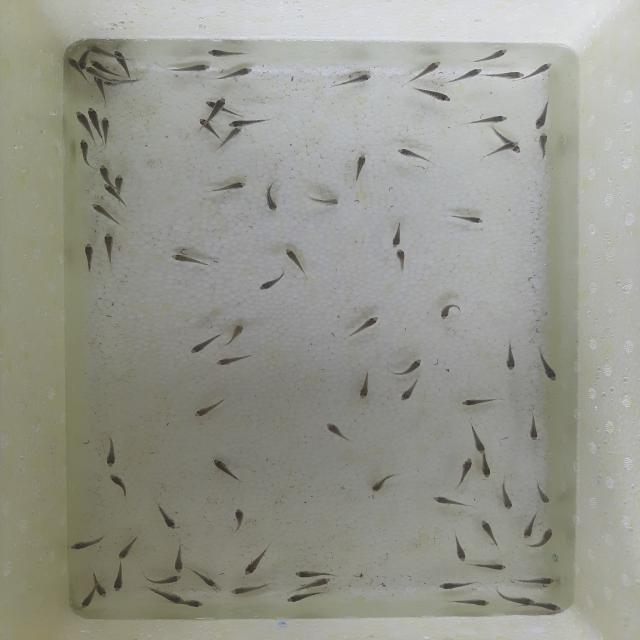fingerling: (343, 316, 382, 338), (396, 146, 436, 167), (282, 246, 309, 277), (243, 546, 270, 577), (168, 251, 211, 270), (205, 178, 249, 196), (465, 421, 489, 454), (540, 348, 561, 385), (450, 456, 474, 488), (335, 72, 373, 92), (152, 502, 180, 529), (66, 533, 108, 551), (214, 455, 243, 481), (166, 61, 216, 76), (524, 59, 554, 84), (432, 492, 476, 509), (347, 153, 369, 186), (194, 398, 230, 418), (192, 566, 220, 591), (412, 59, 442, 82), (411, 89, 454, 105), (224, 320, 248, 348), (369, 473, 399, 495), (390, 358, 426, 376), (447, 211, 484, 228), (263, 181, 282, 214), (530, 480, 554, 506), (187, 335, 219, 354), (209, 352, 252, 366), (524, 412, 544, 442), (103, 436, 121, 469), (324, 421, 352, 442), (228, 504, 249, 532), (220, 65, 254, 82), (451, 69, 485, 86), (116, 535, 140, 559), (514, 574, 562, 586), (90, 202, 118, 222), (398, 379, 423, 401), (530, 529, 555, 551), (470, 49, 509, 63), (465, 114, 510, 126), (147, 591, 183, 606), (500, 592, 533, 608), (305, 195, 345, 208), (435, 579, 478, 591), (112, 560, 128, 592), (259, 275, 289, 292), (222, 126, 245, 148), (113, 49, 133, 74), (501, 478, 516, 511), (110, 472, 129, 498), (479, 519, 498, 545), (77, 139, 94, 167), (452, 534, 467, 564), (462, 396, 499, 408), (521, 514, 538, 540), (230, 585, 270, 596), (101, 233, 116, 262), (285, 592, 321, 604), (536, 134, 553, 159), (203, 49, 249, 58), (292, 579, 332, 589), (76, 588, 94, 610), (503, 342, 516, 372), (478, 559, 508, 572), (479, 456, 498, 476), (225, 119, 267, 128), (533, 106, 548, 131), (454, 598, 488, 609), (85, 67, 108, 83), (88, 107, 101, 135), (150, 574, 183, 585), (173, 544, 185, 574), (441, 304, 462, 321), (102, 184, 121, 202), (394, 247, 407, 273), (84, 242, 96, 270), (360, 372, 372, 400), (75, 110, 88, 135), (94, 572, 106, 598), (293, 568, 332, 576), (540, 600, 564, 613), (482, 71, 526, 78), (198, 119, 216, 136), (69, 57, 82, 80), (391, 224, 402, 250), (85, 46, 113, 56), (492, 130, 511, 144), (98, 166, 112, 185), (114, 173, 126, 193), (102, 117, 110, 145), (213, 98, 225, 116), (184, 599, 206, 608), (90, 60, 107, 69), (500, 141, 519, 149)
